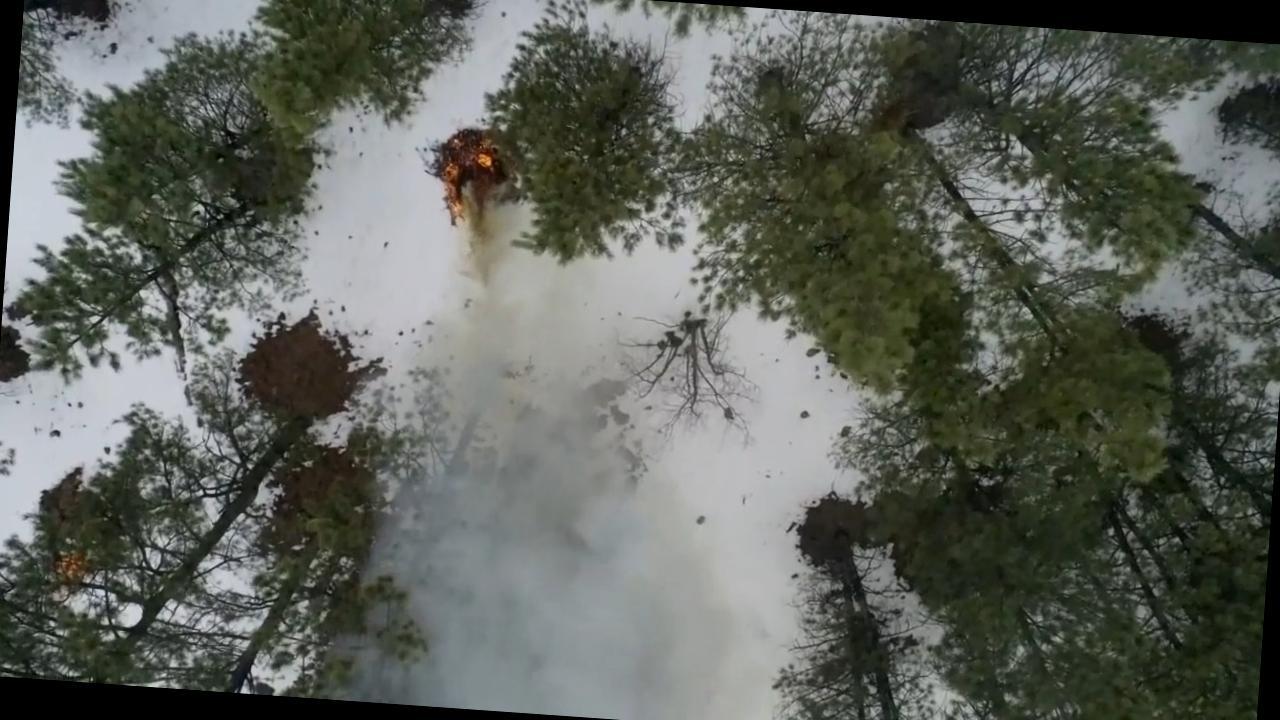fire: (438, 142, 506, 233)
smoke: (397, 448, 680, 720)
